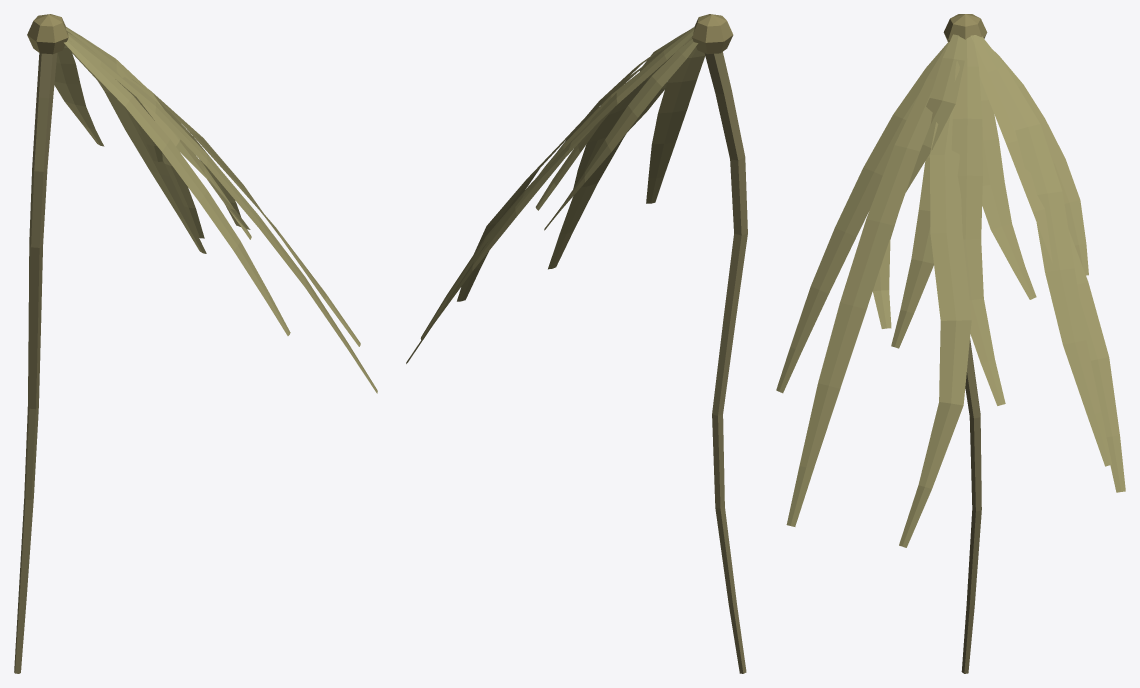
File: bull_kelp.glb
The picture shows the model from 3 angles, left to right: view 1: azimuth 30°, elevation 25°; view 2: azimuth 150°, elevation 25°; view 3: azimuth 270°, elevation 25°; orthographic projection. The views are drawn at different scales.
Parts seen in each view (by area): view 1: bull_kelp; view 2: bull_kelp; view 3: bull_kelp.
Part boxes in pixels (left/top/right/bottom): bull_kelp: left=14, top=14, right=377, bottom=673; bull_kelp: left=406, top=14, right=747, bottom=673; bull_kelp: left=776, top=14, right=1125, bottom=673.
Bounding box in the file's own units: 3.06 × 5.98 × 2.81.
